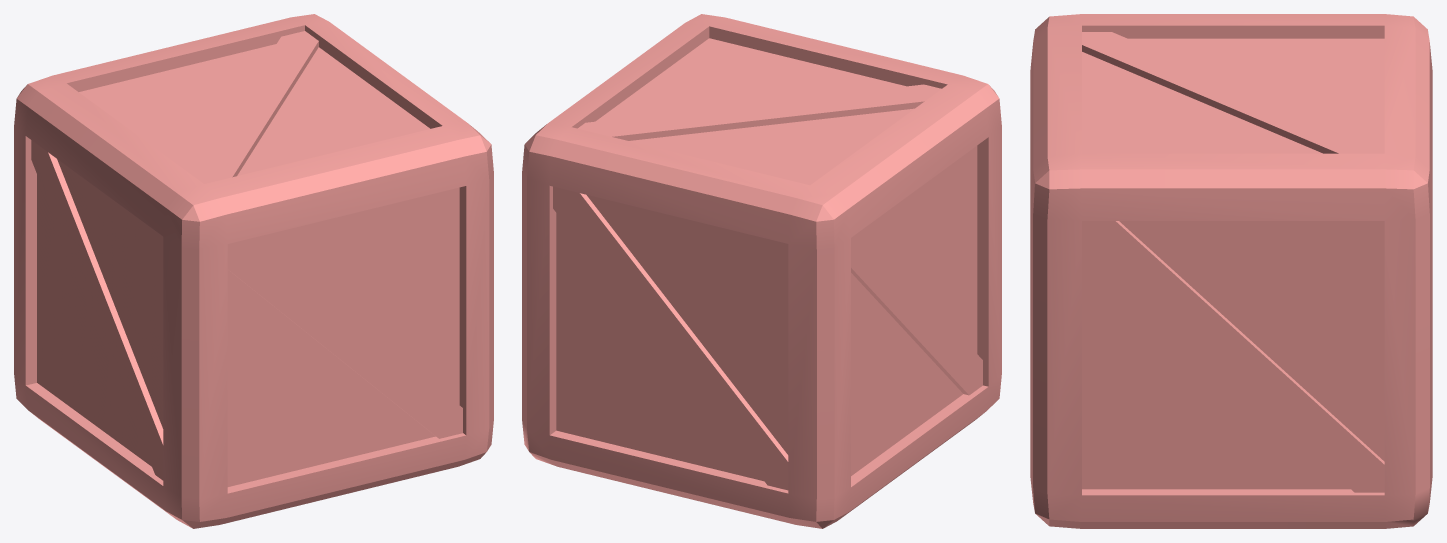
The model's file is Crate_Model.fbx.
3 renders of one model, left to right at view 1: azimuth 30°, elevation 25°; view 2: azimuth 150°, elevation 25°; view 3: azimuth 270°, elevation 25°, orthographic. The views are drawn at different scales.
Visible parts, largest first — view 1: pCube1; view 2: pCube1; view 3: pCube1.
Boxes of the visible parts, box(x1,y1,x2,y2) form: pCube1: box(14, 14, 493, 528); pCube1: box(522, 14, 1001, 528); pCube1: box(1030, 14, 1432, 528).
Bounding box in the file's own units: 108 × 108 × 108.
1 material, 1 textured.
